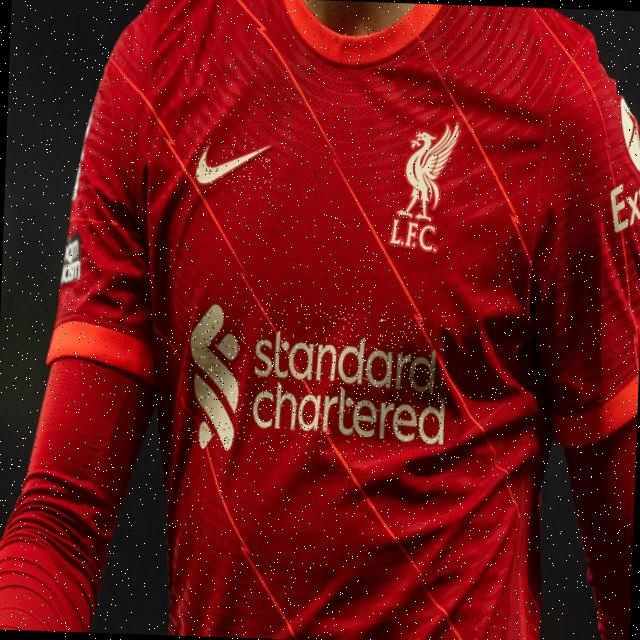Nike: (194, 138, 275, 189)
Standard Chartered: (186, 302, 450, 459)
